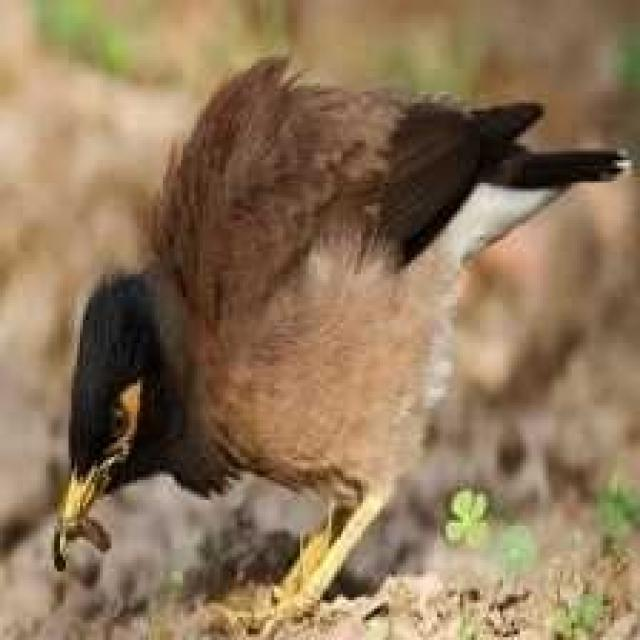bird: (46, 49, 634, 636)
